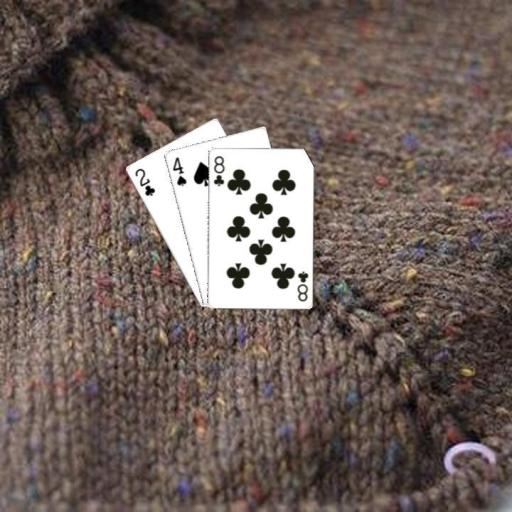2C: (132, 165, 157, 198)
4S: (169, 154, 188, 187)
8C: (210, 152, 225, 187), (294, 268, 309, 303)
